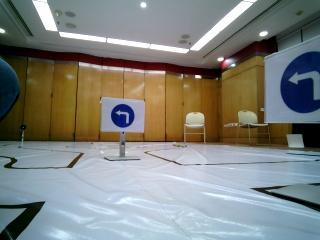left: (270, 55, 320, 115), (102, 100, 147, 133)
